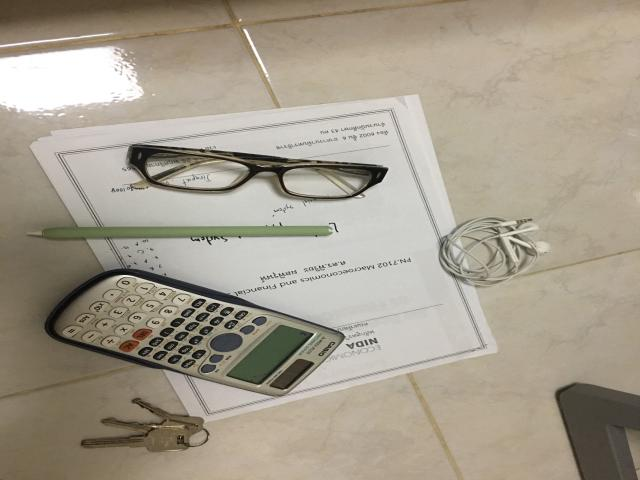Glasses: (128, 144, 388, 199)
Keys: (82, 398, 210, 452)
paper: (30, 96, 497, 421)
wire: (440, 217, 550, 286)
